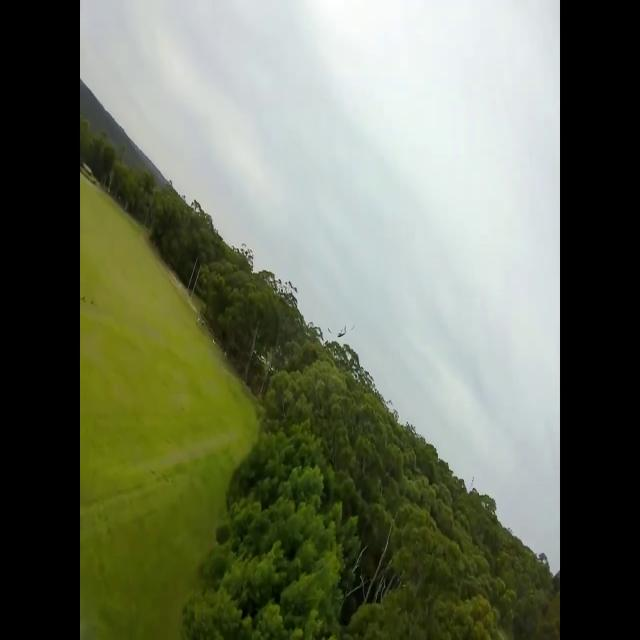iha: (329, 317, 356, 335)
